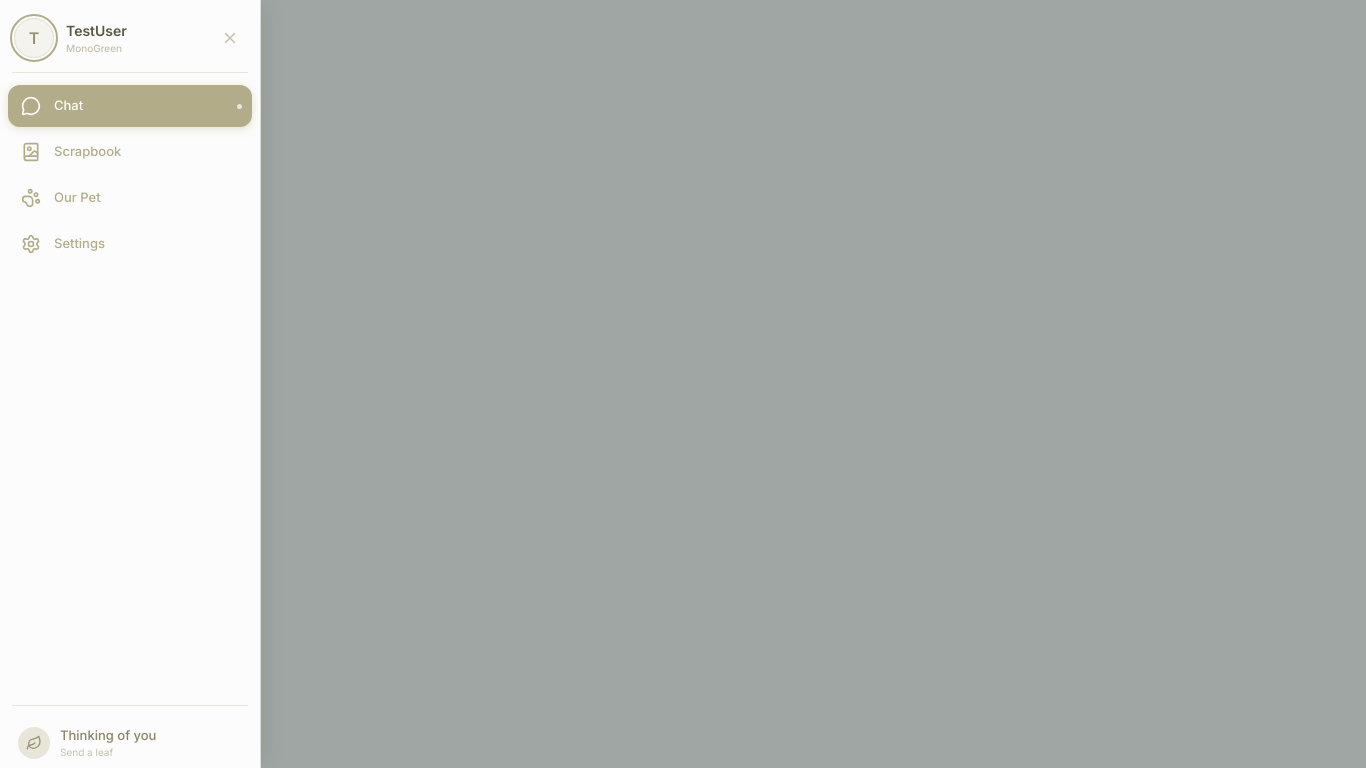
Scenario: Sidebar › should show name input when name is clicked
Click the button with test id "sidebar-name-btn": {"x": 96, "y": 30} left=66, top=20, right=127, bottom=40
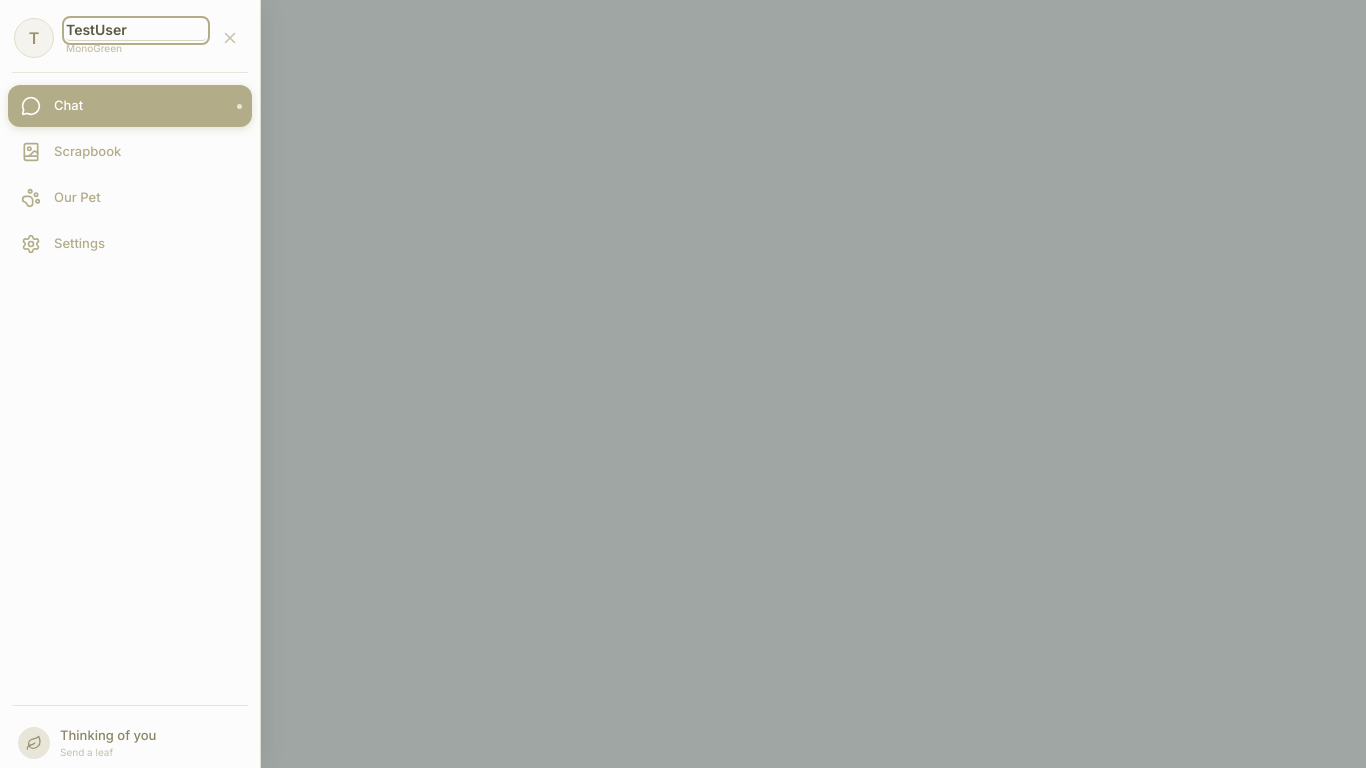
Expected: the field with test id "sidebar-name-input" is shown, left=66, top=20, right=206, bottom=41
